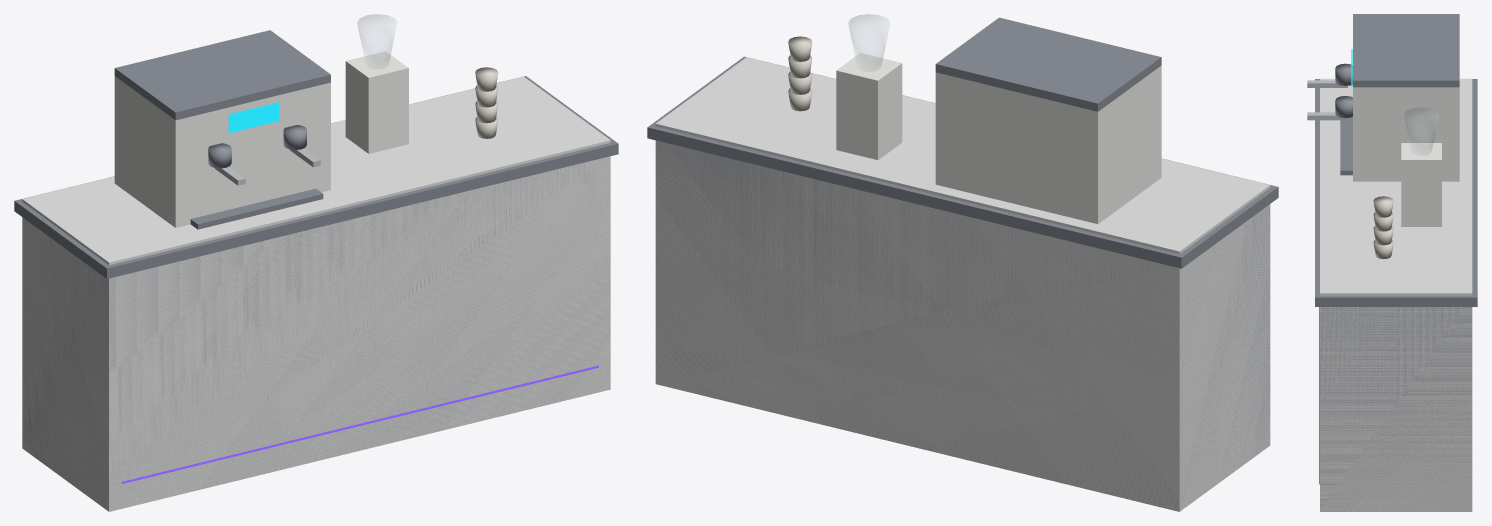
File: Furn_CoffeeCounter.gltf
3 renders of one model, left to right at view 1: azimuth 30°, elevation 25°; view 2: azimuth 150°, elevation 25°; view 3: azimuth 270°, elevation 25°, orthographic. The views are drawn at different scales.
Visible parts, largest first — view 1: Furn_CoffeeCounter_COL, Furn_CoffeeCounter; view 2: Furn_CoffeeCounter_COL, Furn_CoffeeCounter; view 3: Furn_CoffeeCounter, Furn_CoffeeCounter_COL.
Boxes of the visible parts, left/top/right/bottom form: Furn_CoffeeCounter_COL: left=22, top=76, right=610, bottom=511; Furn_CoffeeCounter: left=14, top=14, right=618, bottom=511; Furn_CoffeeCounter_COL: left=655, top=57, right=1270, bottom=511; Furn_CoffeeCounter: left=647, top=14, right=1278, bottom=511; Furn_CoffeeCounter: left=1307, top=14, right=1477, bottom=511; Furn_CoffeeCounter_COL: left=1320, top=78, right=1472, bottom=511.
Bounding box in the file's own units: 2.04 × 1.4 × 0.67.
